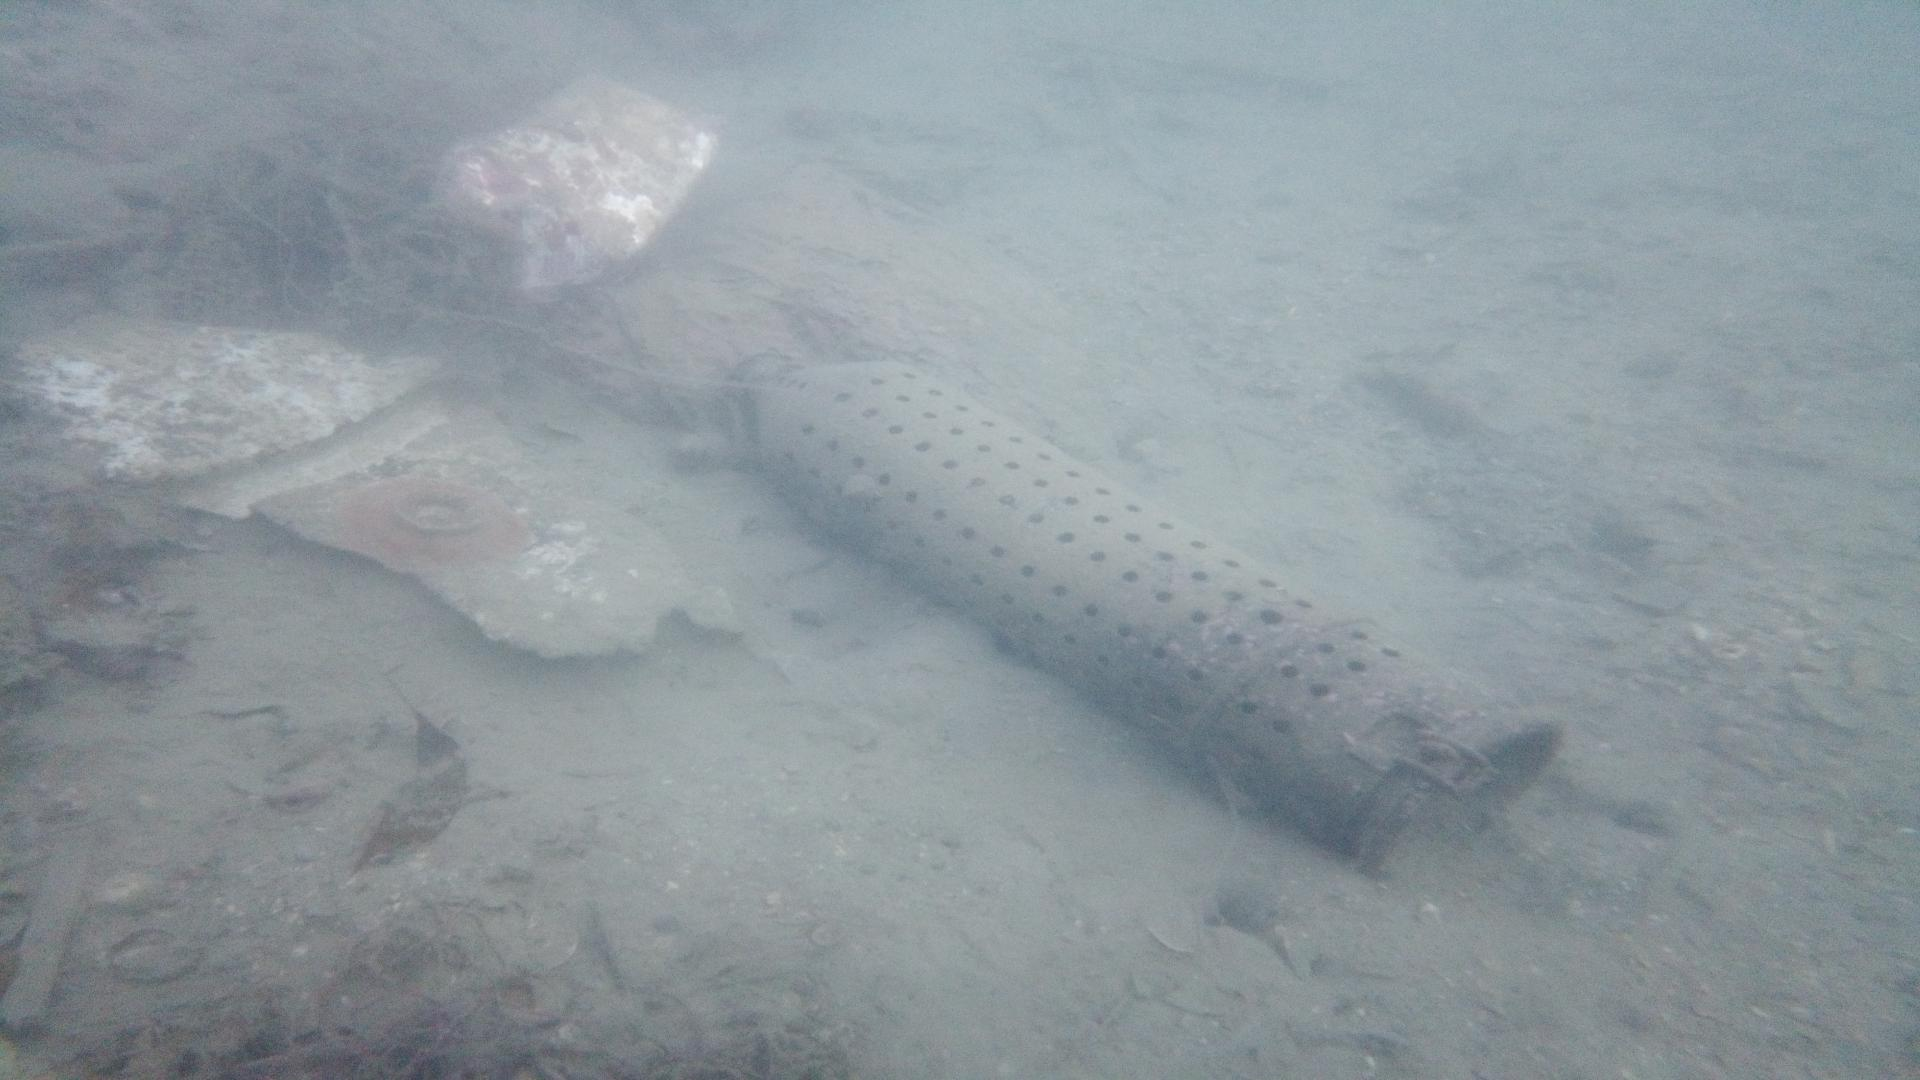eel fish trap: (750, 355, 1571, 884)
